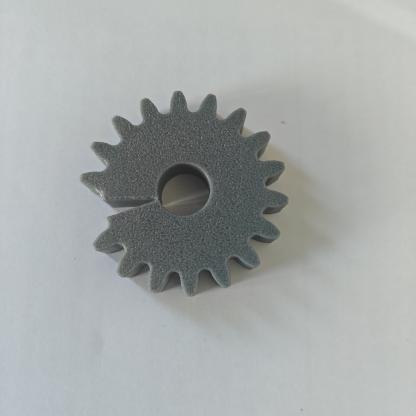defect: (74, 171, 188, 254)
gear: (62, 82, 300, 314)
